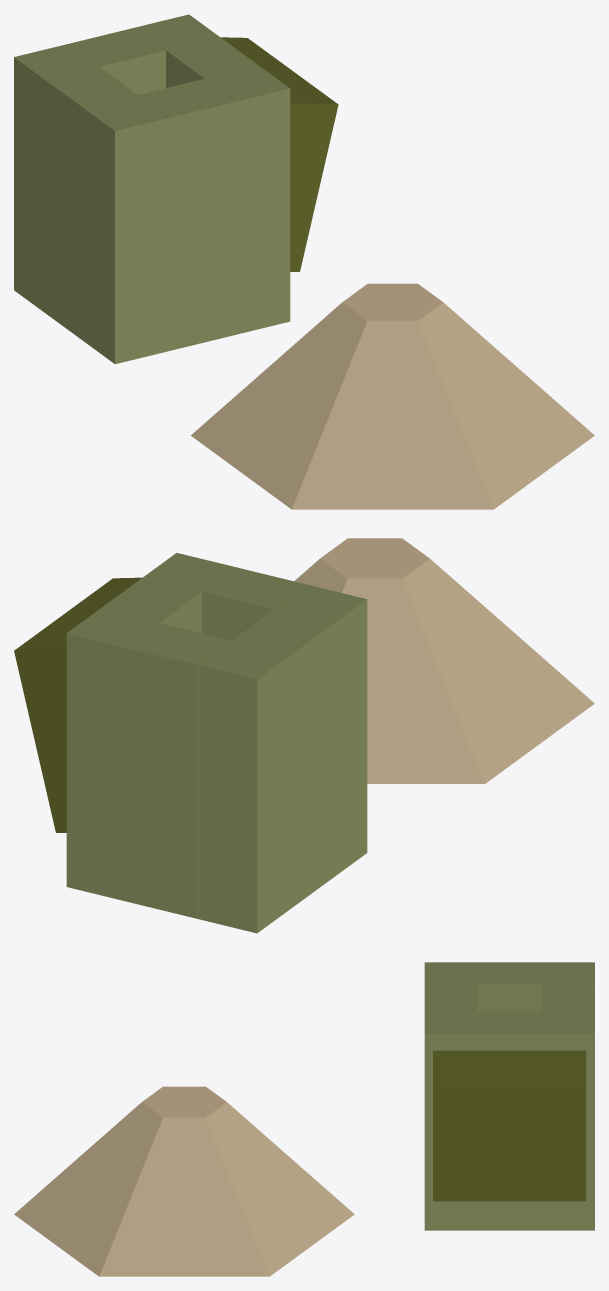
File: SM_ObraHescoAbierto_v3_8m_LOD1.fbx
3 views of the same model, one above another, from view 1: azimuth 30°, elevation 25°; view 2: azimuth 150°, elevation 25°; view 3: azimuth 270°, elevation 25° (orthographic). The views are drawn at different scales.
Visible parts, largest first — view 1: SM_obra_curso_v26_LOD1; view 2: SM_obra_curso_v26_LOD1; view 3: SM_obra_curso_v26_LOD1.
Part boxes in pixels (left/top/right/bottom): SM_obra_curso_v26_LOD1: left=14, top=14, right=594, bottom=509; SM_obra_curso_v26_LOD1: left=14, top=538, right=594, bottom=933; SM_obra_curso_v26_LOD1: left=14, top=962, right=594, bottom=1276.
Size of the model in its own units: 1.91 by 1.4 by 3.75.
